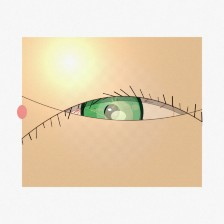corneal_ulcer: (95, 96, 143, 135)
